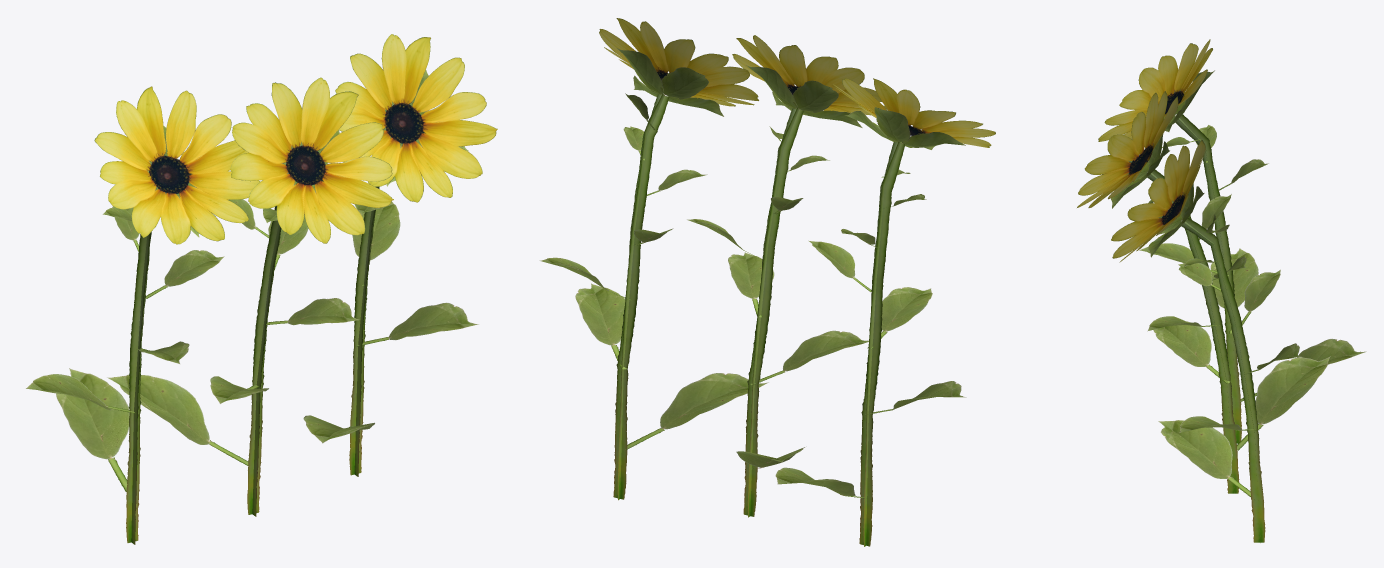
File: SunflowerGroup2_1.fbx
3 renders of one model, left to right at view 1: azimuth 30°, elevation 25°; view 2: azimuth 150°, elevation 25°; view 3: azimuth 270°, elevation 25°, orthographic. The views are drawn at different scales.
Visible parts, largest first — view 1: SunflowerGroup2_1; view 2: SunflowerGroup2_1; view 3: SunflowerGroup2_1.
Boxes of the visible parts, left/top/right/bottom form: SunflowerGroup2_1: left=26, top=34, right=497, bottom=544; SunflowerGroup2_1: left=539, top=18, right=995, bottom=546; SunflowerGroup2_1: left=1077, top=39, right=1366, bottom=542.
Bounding box in the file's own units: 0.7903 × 0.8257 × 0.57.
